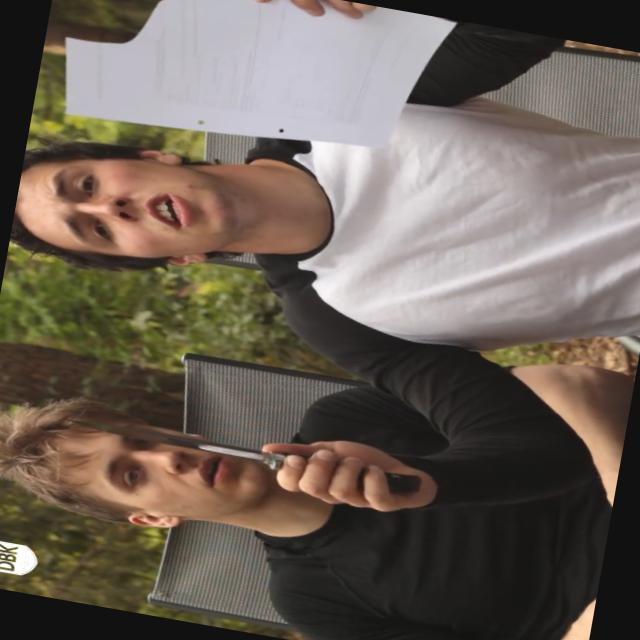knife: (38, 394, 377, 511)
